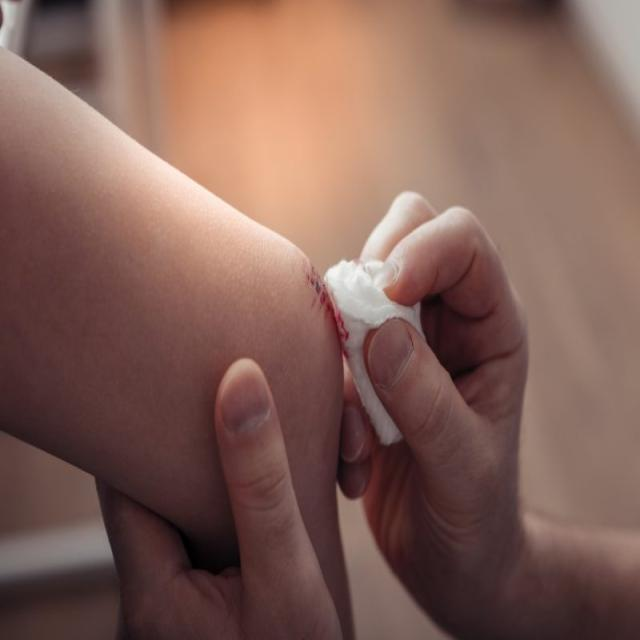B3: (315, 256, 398, 444)
